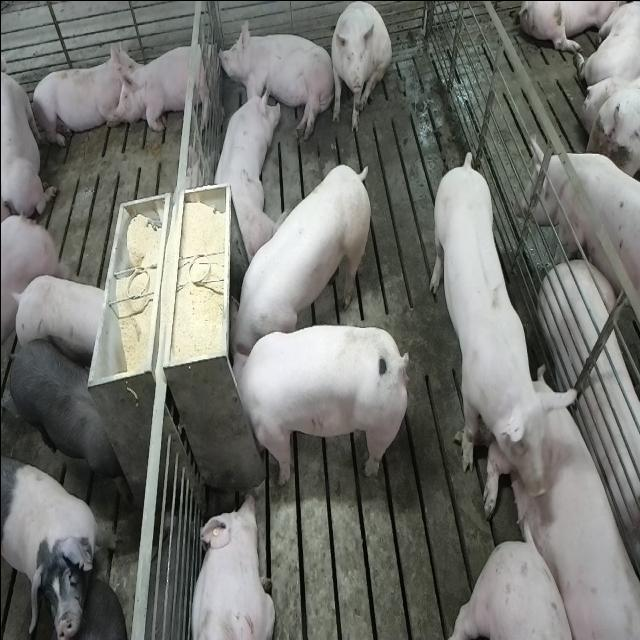Feeding: (228, 320, 414, 484), (229, 160, 375, 358)
Lateral_lying: (215, 15, 334, 142)
Sitting: (328, 1, 391, 134)
Standing: (429, 154, 579, 484), (516, 140, 640, 346), (2, 338, 132, 506), (3, 445, 117, 599), (11, 274, 107, 360)
Sternal_lying: (487, 388, 640, 634), (187, 490, 275, 640), (207, 70, 275, 260), (28, 41, 130, 150), (112, 37, 215, 137), (2, 38, 54, 226)
